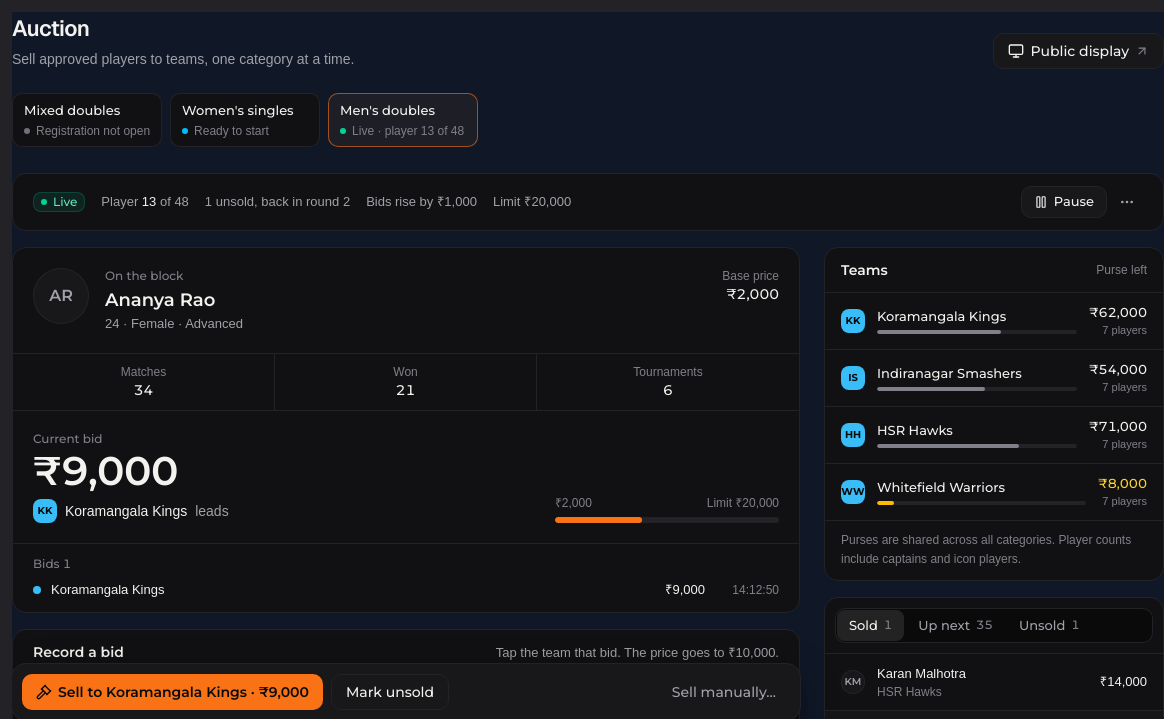
Test case: AuctionSection › names the unsold players waiting for the next round
Click the button "Unsold 1" at (1049, 625), box [1007, 610, 1092, 641]
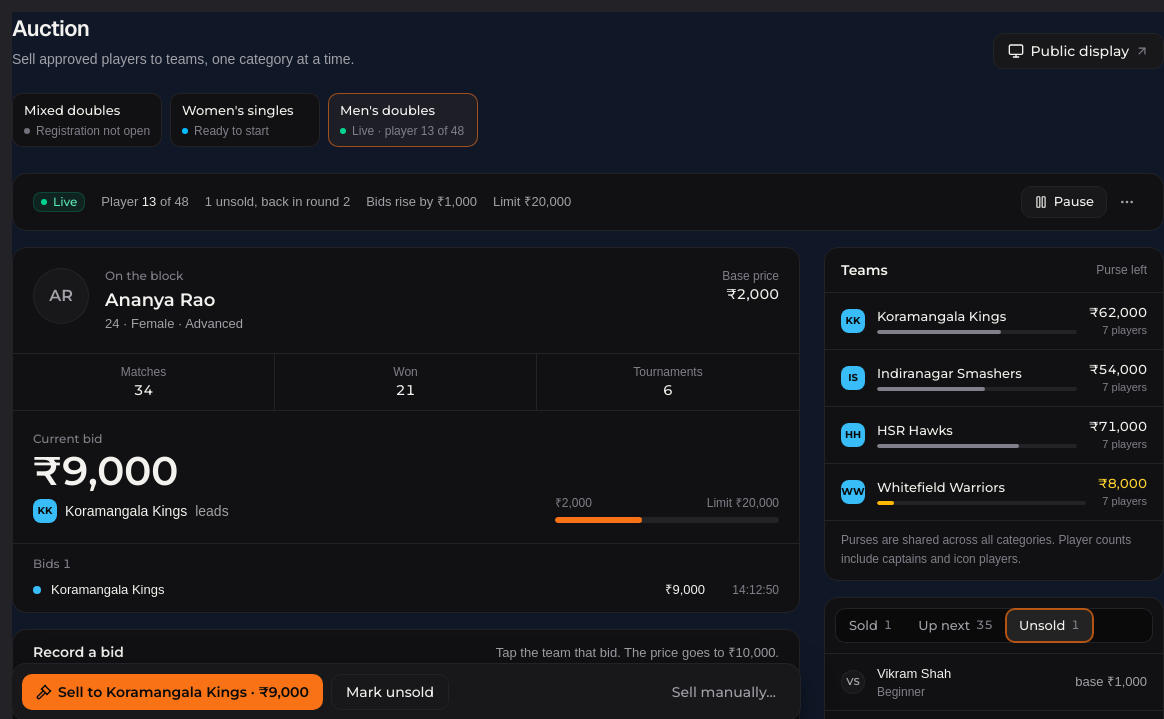
Check: the text "Vikram Shah" is shown, box [877, 666, 951, 681]
